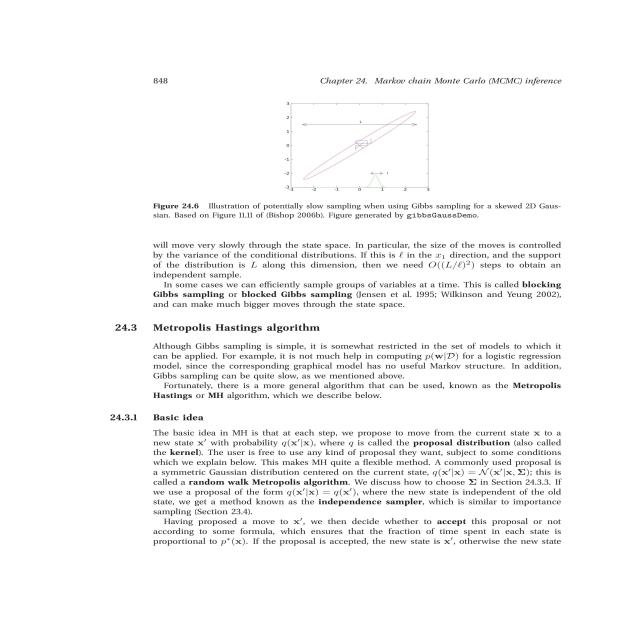diagram: (73, 89, 586, 228)
